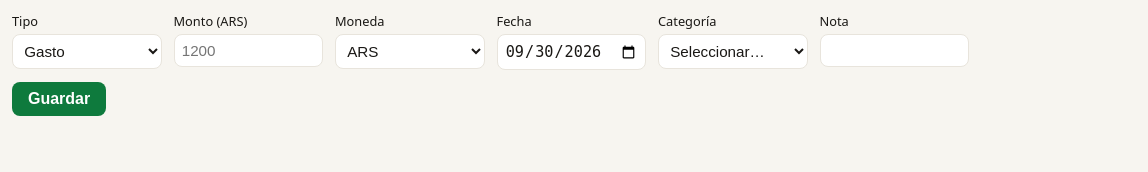
it: TransactionForm › shows a live ARS conversion line while typing a USD amount with a valid rate
Select "USD" in the dropdown with test id "currency" at (410, 52), box [335, 34, 484, 69]
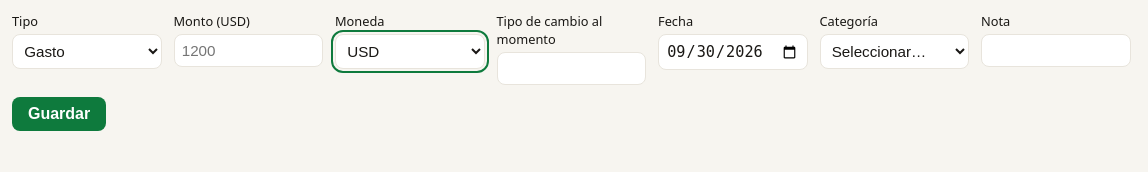
Type "25" into the field with test id "amount" at (248, 51), box [174, 34, 323, 67]
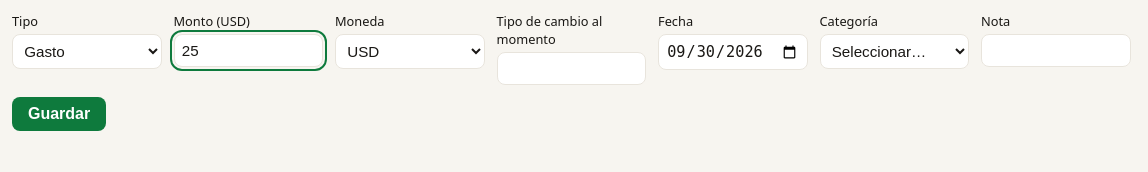
Type "950" into the field with test id "rate" at (571, 69), box [496, 52, 646, 85]
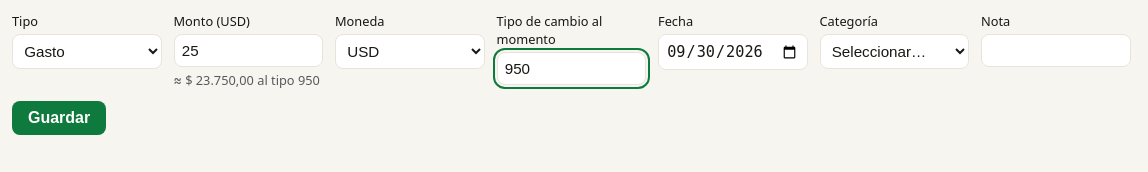
Expected: the text "≈ $ 23.750,00 al tipo 950" is shown, [174, 71, 323, 89]
Note: Live update as the parsed amount changes (25 USD → 30 USD @ 950).
Replace the text in the field with test id "amount" with "30" at (248, 51), box [174, 34, 323, 67]
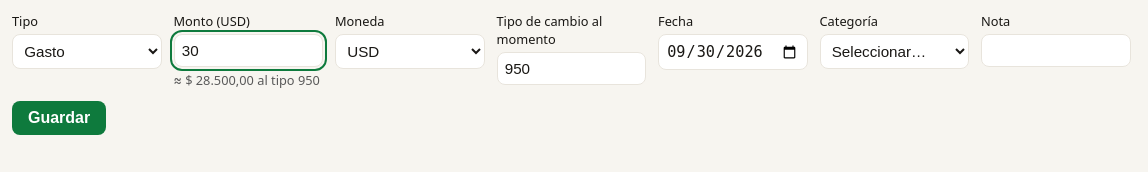
Expected: the text "≈ $ 28.500,00 al tipo 950" is shown, [174, 71, 323, 89]
